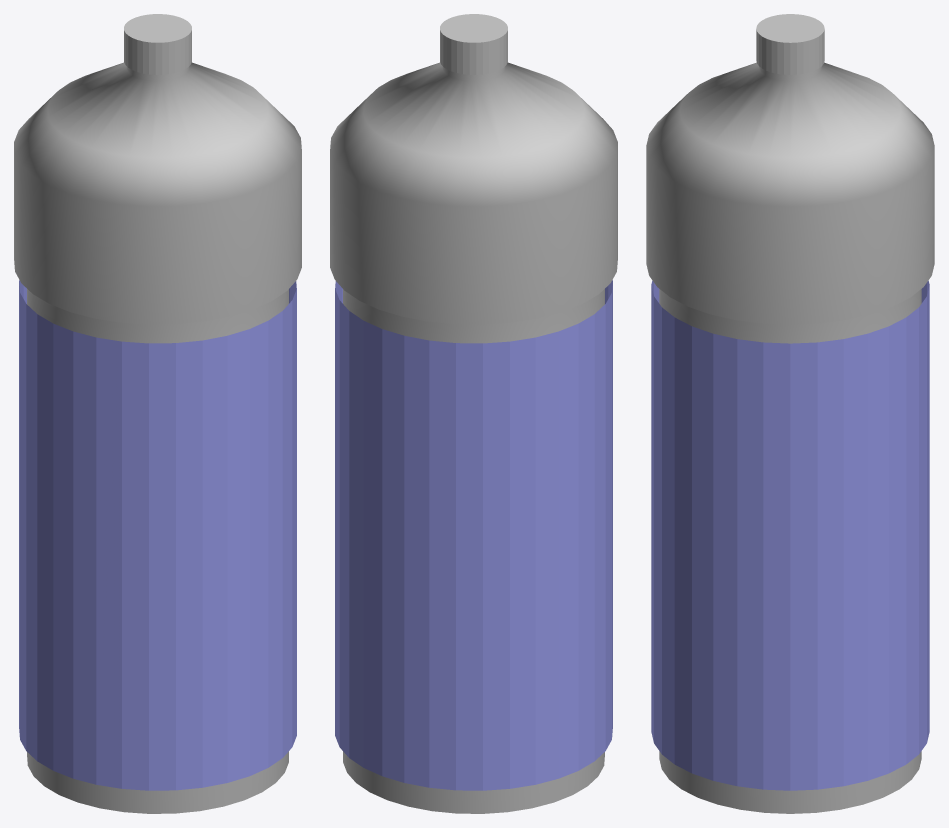
The model's file is Bottle.obj.
The picture shows the model from 3 angles, left to right: view 1: azimuth 30°, elevation 25°; view 2: azimuth 150°, elevation 25°; view 3: azimuth 270°, elevation 25°; orthographic projection.
Parts seen in each view (by area): view 1: 円; view 2: 円; view 3: 円.
Part boxes in pixels (box(x1,y1,x2,y2)): 円: box(14, 14, 301, 813); 円: box(330, 14, 617, 813); 円: box(646, 14, 934, 813).
Size of the model in its own units: 2.2 by 6.23 by 2.2.
Materials: 2 (1 with a texture image).
